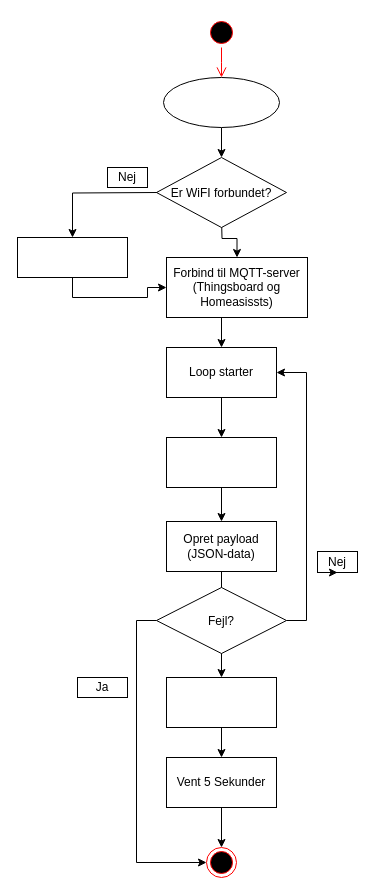
This 375x895 diagram has some shape labels left out. Here are the shapes that lost their labels. From the top down, the centre of each, then its label:
At (221,102): "Initialiser WiFi".
At (72,257): "Vent 1 sekund".
At (221,462): "Læser sensor data".
At (221,702): "Håndter fejl".
